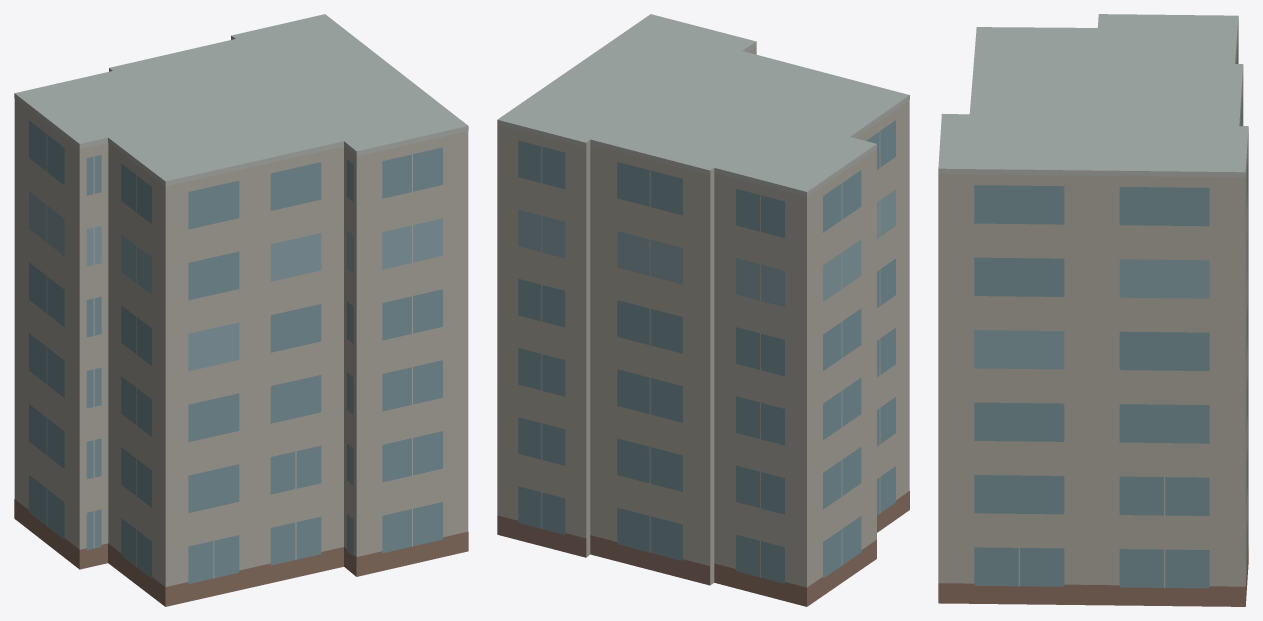
The model's file is survey-upis-32520609.glb.
The picture shows the model from 3 angles, left to right: view 1: azimuth 30°, elevation 25°; view 2: azimuth 150°, elevation 25°; view 3: azimuth 270°, elevation 25°; orthographic projection. The views are drawn at different scales.
Parts seen in each view (by area): view 1: survey-upis-32520609.tmp; view 2: survey-upis-32520609.tmp; view 3: survey-upis-32520609.tmp.
Part boxes in pixels (x1,y1,x2,y2): survey-upis-32520609.tmp: (14, 14, 468, 606); survey-upis-32520609.tmp: (497, 14, 909, 606); survey-upis-32520609.tmp: (938, 14, 1248, 606).
Bounding box in the file's own units: 15.78 × 20.2 × 13.08.
